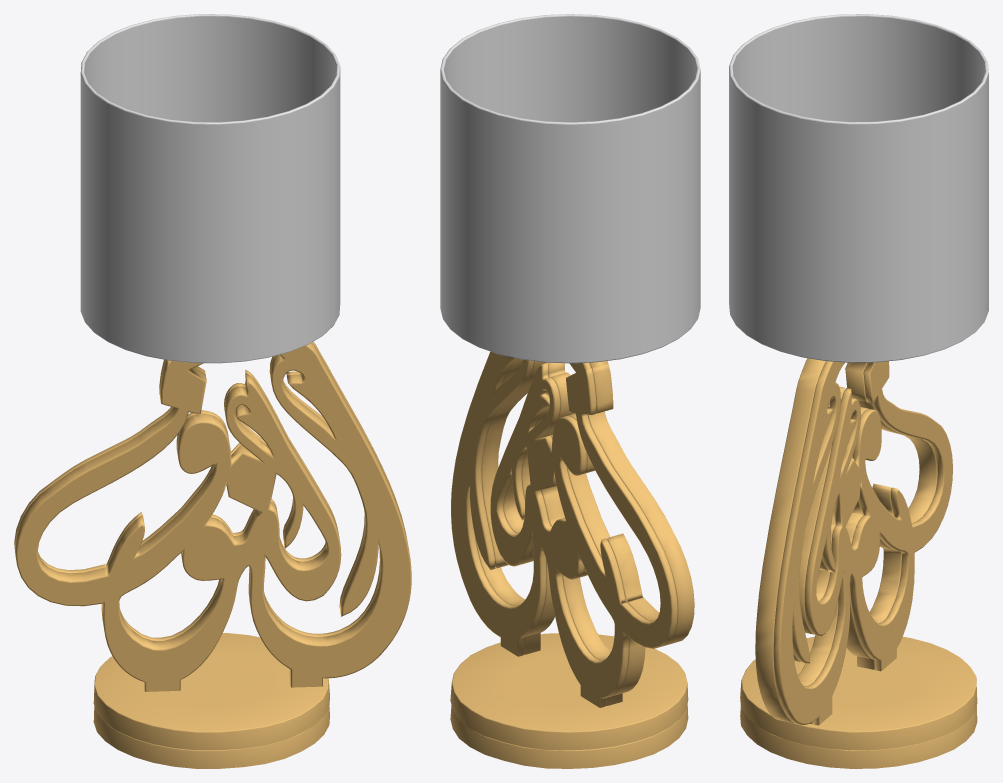
File: NoofLamp.fbx
The picture shows the model from 3 angles, left to right: view 1: azimuth 30°, elevation 25°; view 2: azimuth 150°, elevation 25°; view 3: azimuth 270°, elevation 25°; orthographic projection.
Visible parts, largest first — view 1: Outside Cover Lamp.001, Noof Thick.001, Base.002, Noof Slim.001; view 2: Outside Cover Lamp.001, Noof Slim.001, Base.002, Noof Thick.001; view 3: Outside Cover Lamp.001, Noof Slim.001, Base.002, Noof Thick.001.
Part boxes in pixels (x1,y1,x2,y2): Outside Cover Lamp.001: (80,14,340,363); Noof Thick.001: (14,342,411,691); Base.002: (93,633,329,768); Noof Slim.001: (14,341,405,677); Outside Cover Lamp.001: (440,14,700,363); Noof Slim.001: (451,351,677,707); Base.002: (450,633,688,768); Noof Thick.001: (475,359,694,705); Outside Cover Lamp.001: (729,14,988,362); Noof Slim.001: (773,361,952,725); Base.002: (740,636,977,768); Noof Thick.001: (755,358,937,723).
Size of the model in its own units: 243 by 474 by 172.
